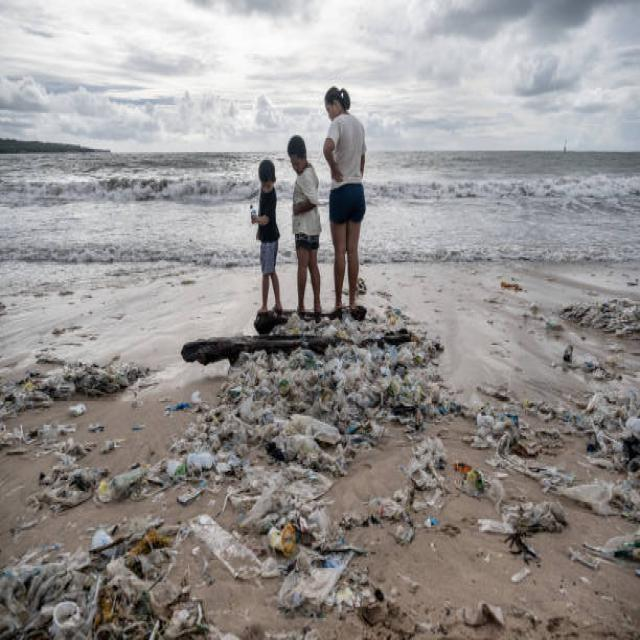trash: (31, 331, 626, 629)
